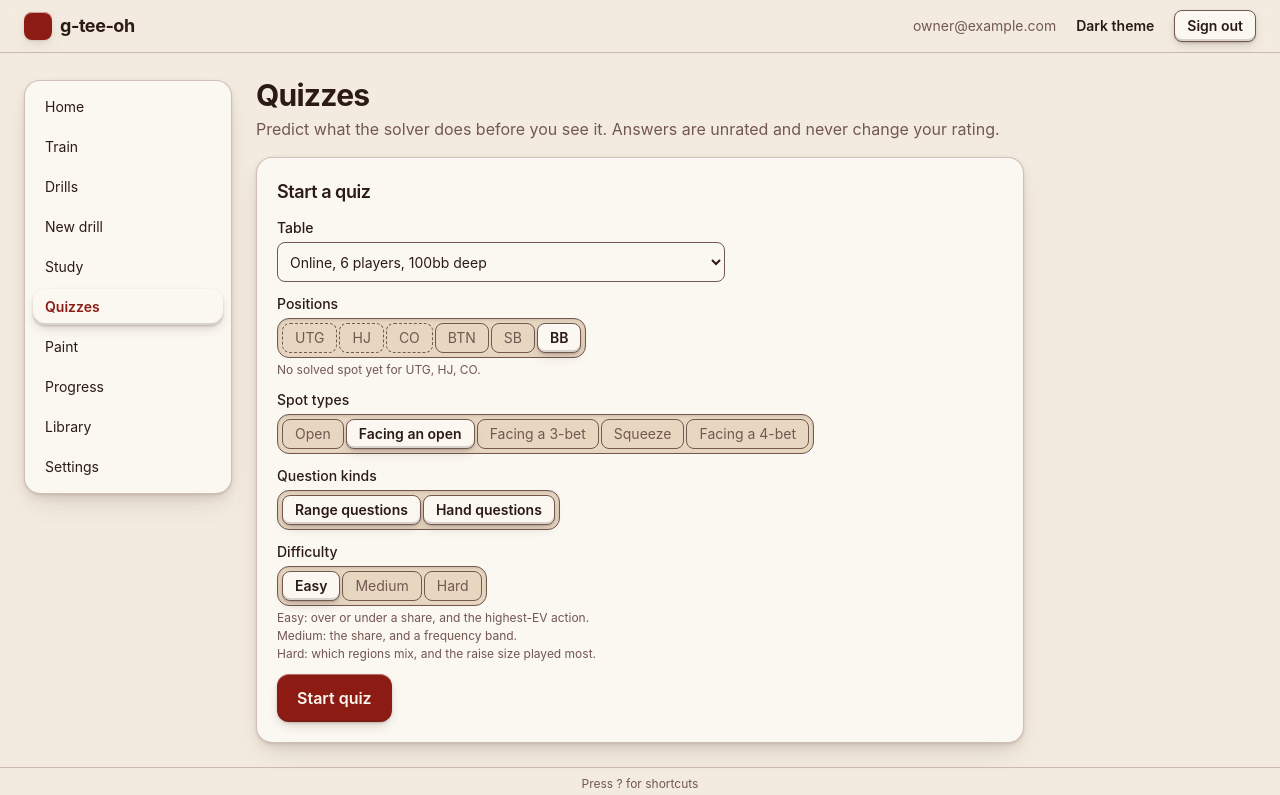
Test: R3.16 the quiz's Enter submits from the chosen option or the page only (PR #45 round 4 b, PR #49 round 1) › R3.16 Enter on an unticked region ticks it and sends nothing (PR #49 round 2, the HIGH)
Click the button "Start quiz": (334, 698) [277,674,392,722]
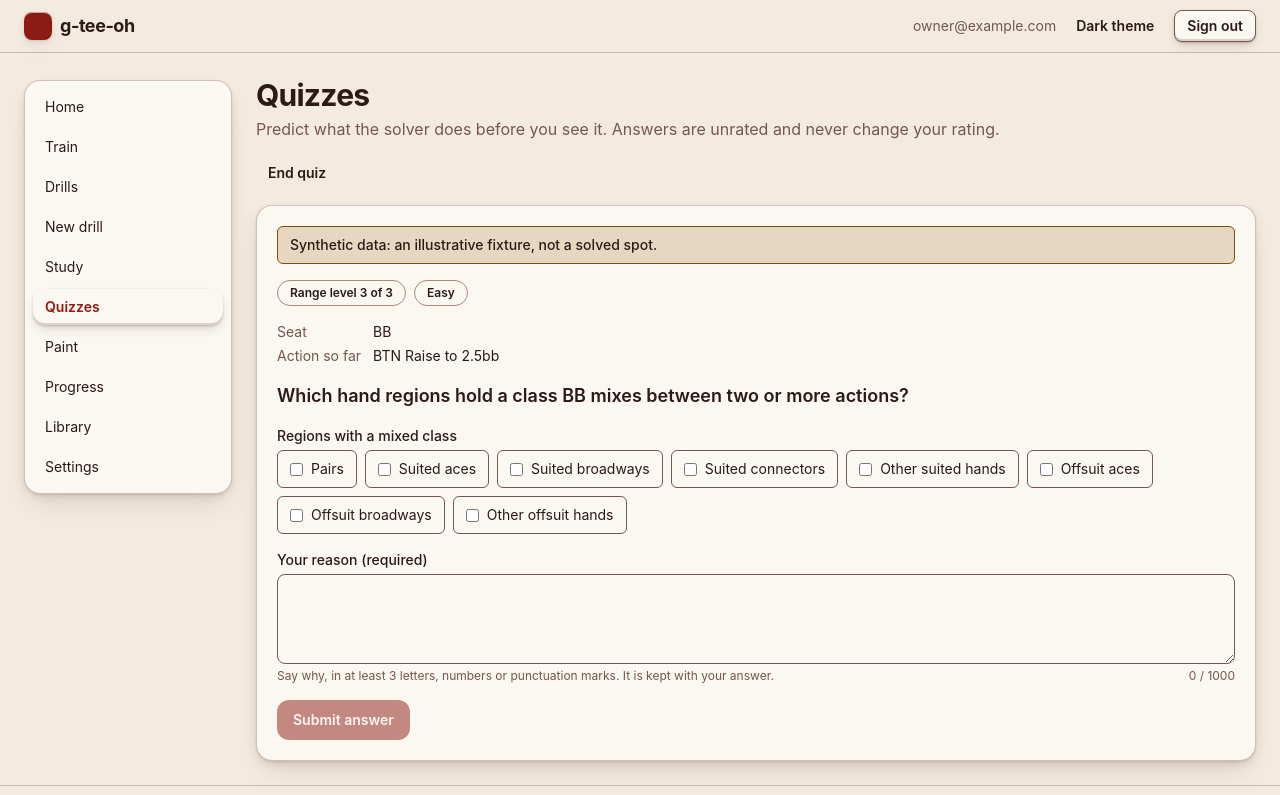
Expected: the heading "Which hand regions hold a class BB mixes between two or more actions?" is shown, [277,385,909,406]
In the text box labelled "Your reason (required)": (756, 619) [277,574,1235,664], type "Facing a small open, the price is good."
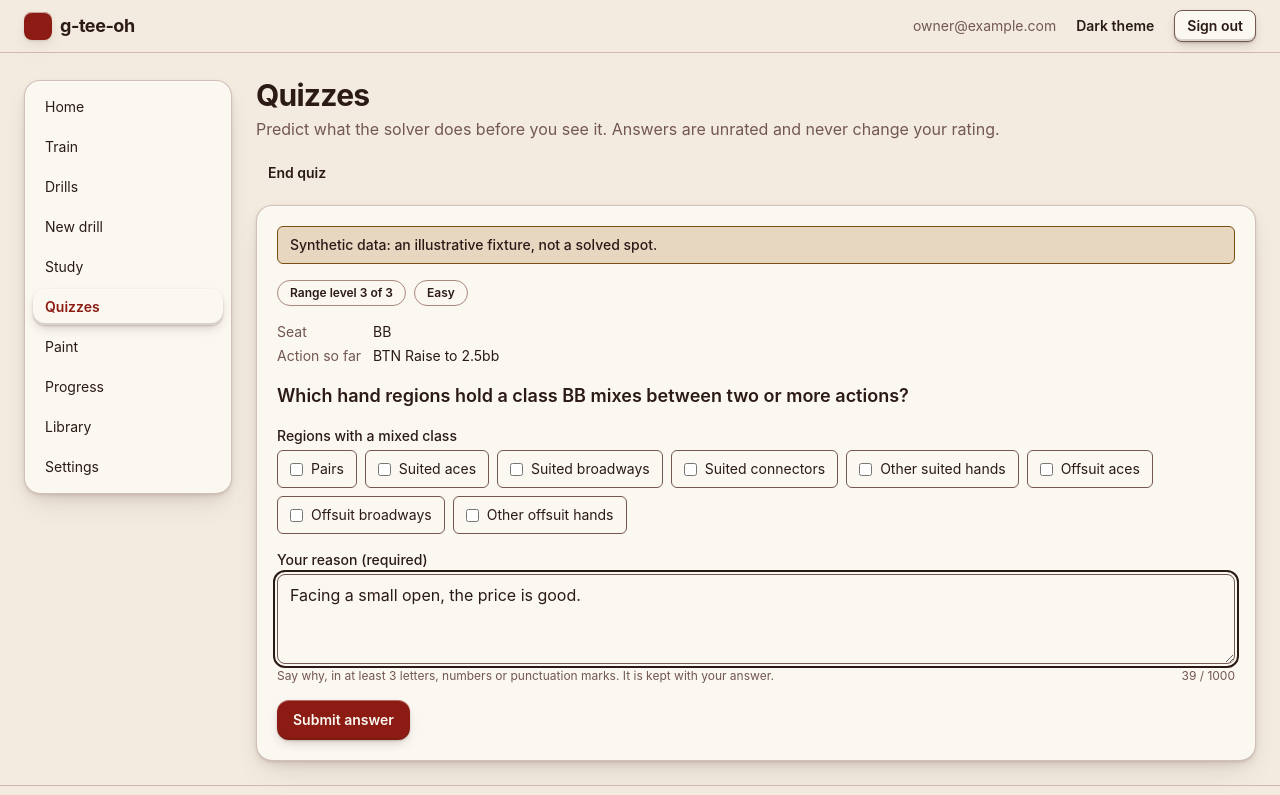
Click the checkbox labelled "Pairs": (296, 469) [290,462,303,476]
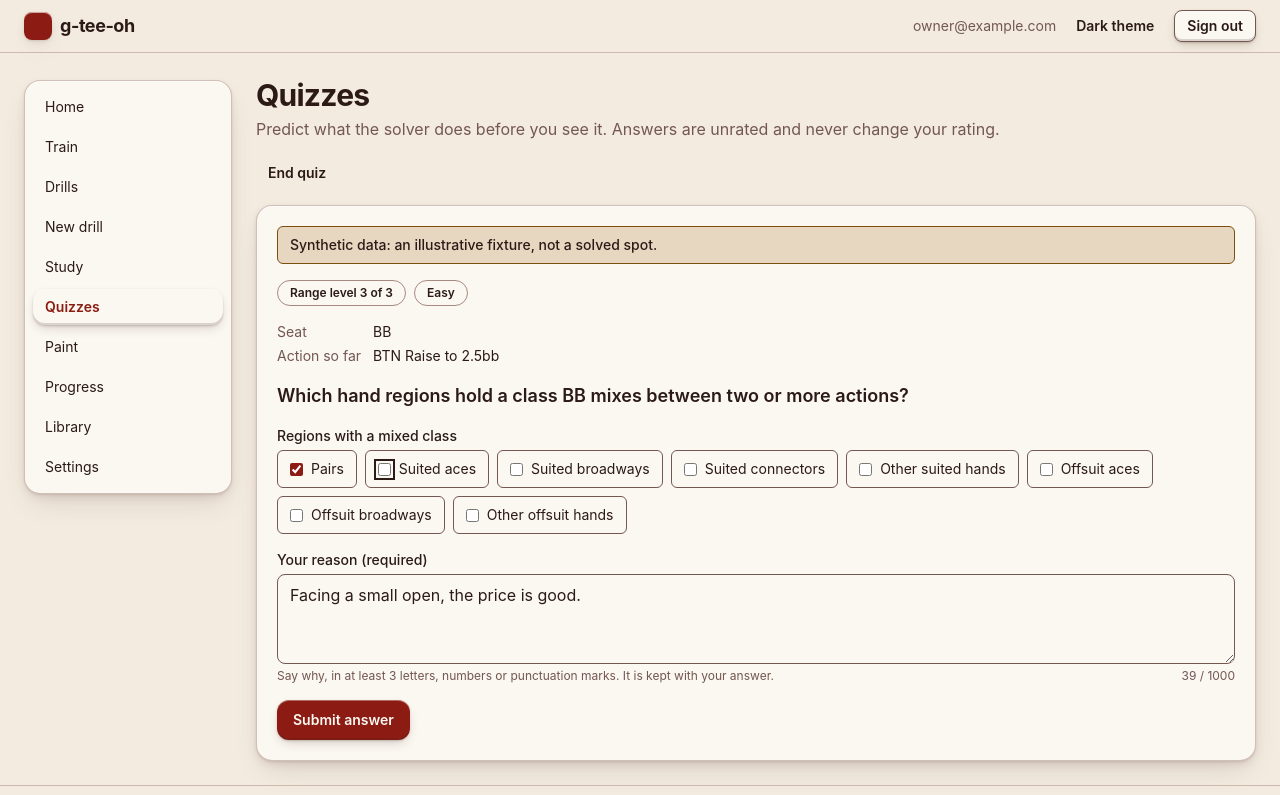
Expected: the checkbox labelled "Suited aces" is not checked, [378,462,391,476]
Press Enter
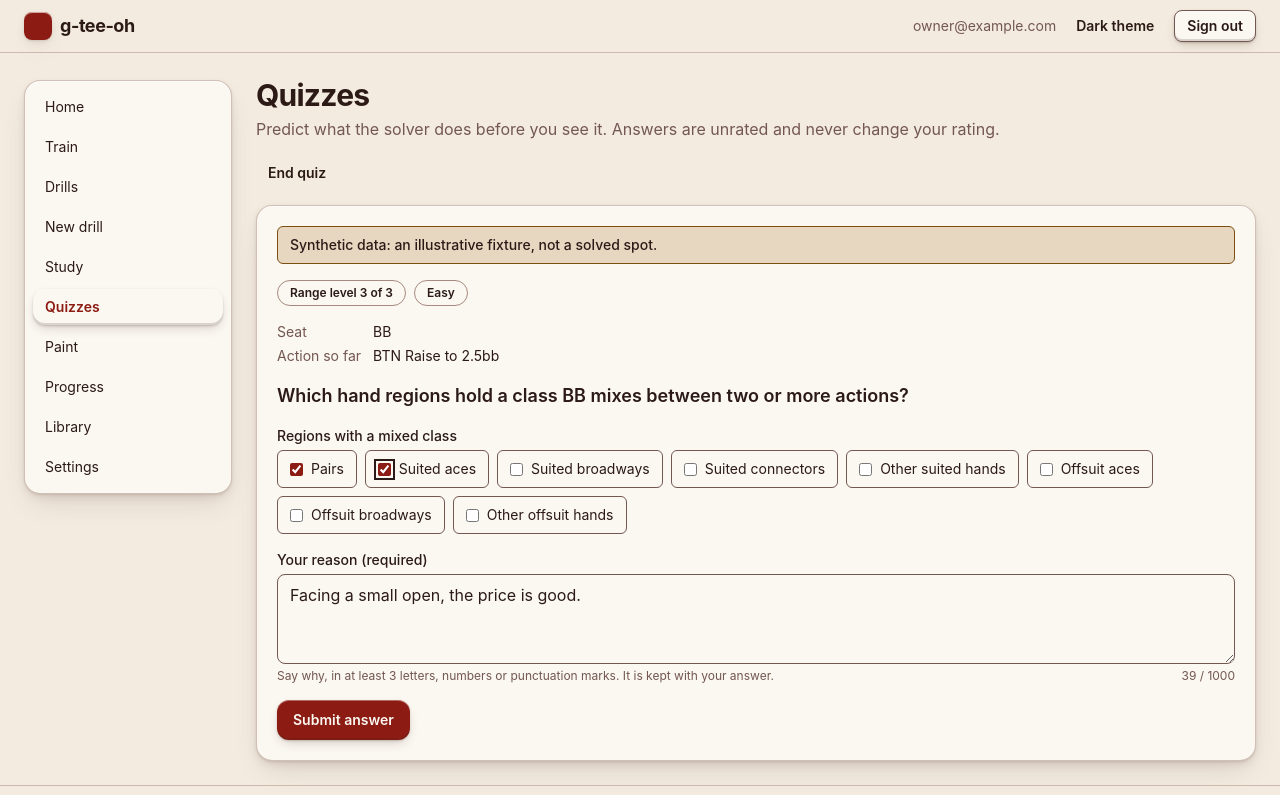
Expected: the checkbox labelled "Suited aces" is checked, [378,462,391,476]
